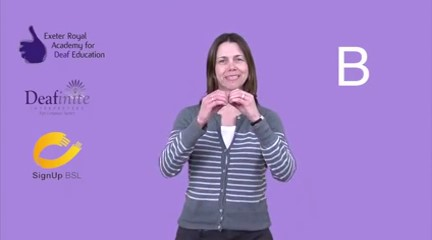B: (194, 82, 269, 137)
